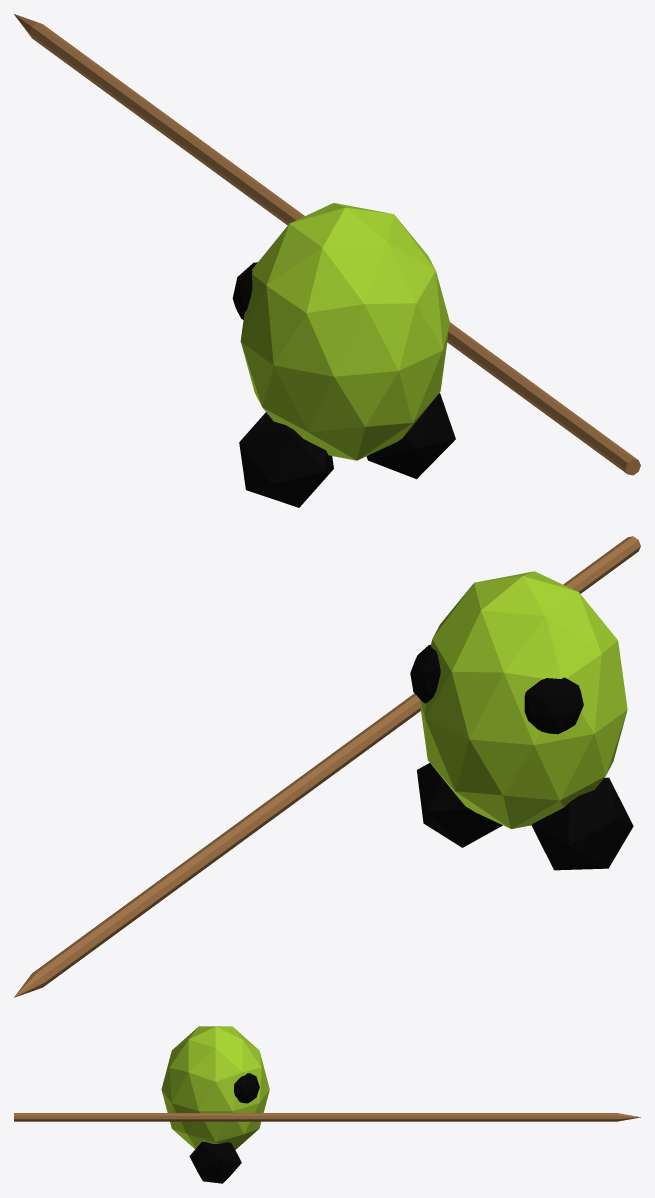
The model's file is stab.f0023.glb.
3 views of the same model, one above another, from view 1: azimuth 30°, elevation 25°; view 2: azimuth 150°, elevation 25°; view 3: azimuth 270°, elevation 25° (orthographic). The views are drawn at different scales.
Parts seen in each view (by area): view 1: Body.001; view 2: Body.001; view 3: Body.001.
Boxes of the visible parts, x1,y1,x2,y2 form: Body.001: [14, 14, 640, 507]; Body.001: [14, 536, 640, 997]; Body.001: [14, 1026, 640, 1183].
Bounding box in the file's own units: 2.17 × 2.85 × 11.56.
Materials: 1 (1 with a texture image).
